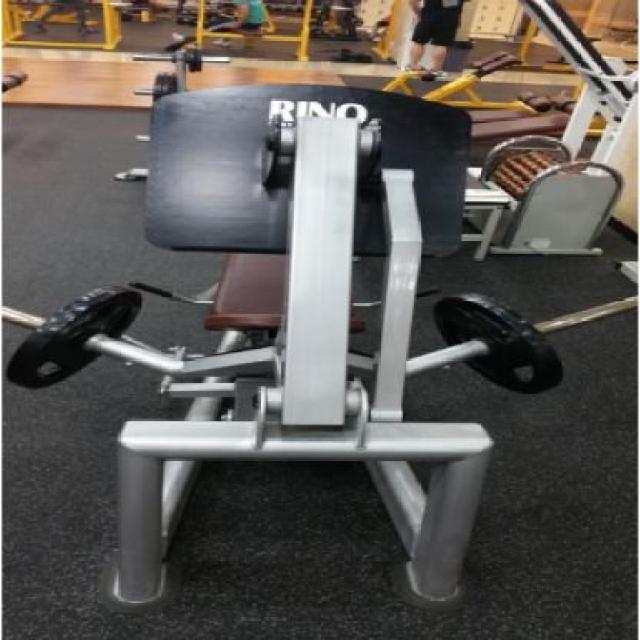leg press: (0, 42, 640, 630)
